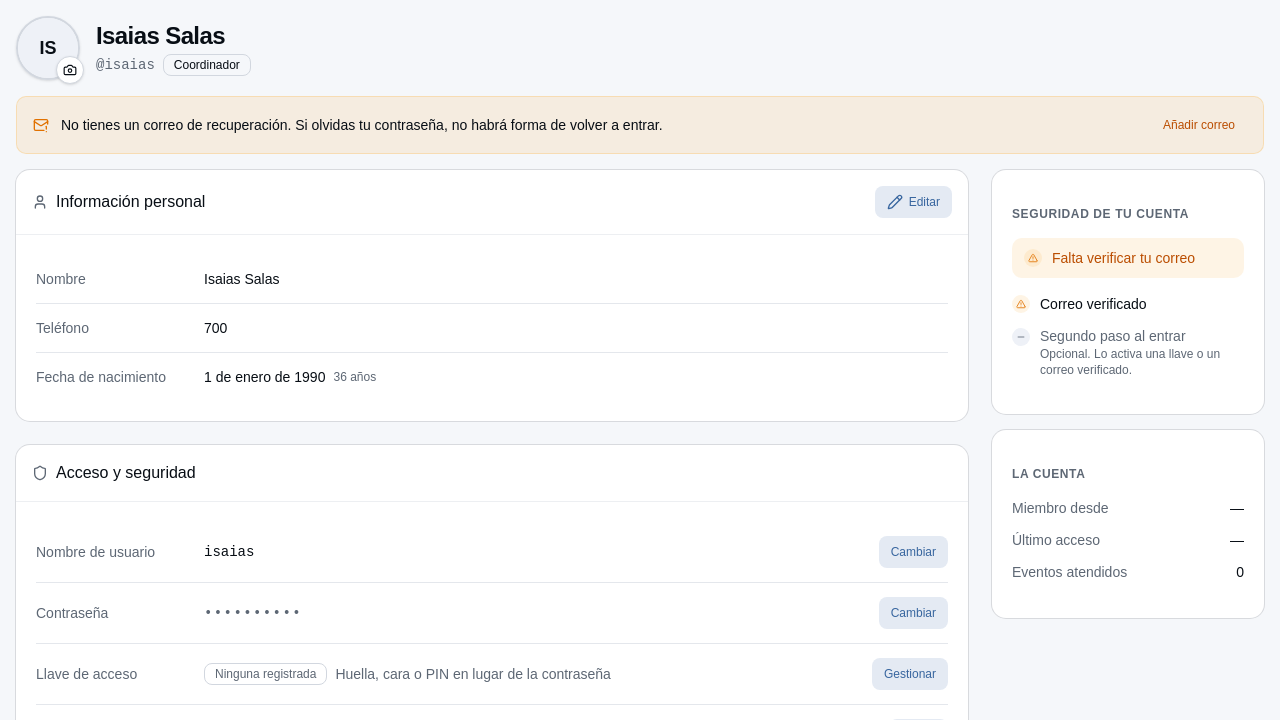
Scenario: changing your own password from the profile page › sends nothing when the current password box was left empty, and says so under it
Click the button with aria-label "cambiar contraseña" at (913, 613), box x1=879 y1=597 x2=948 y2=629
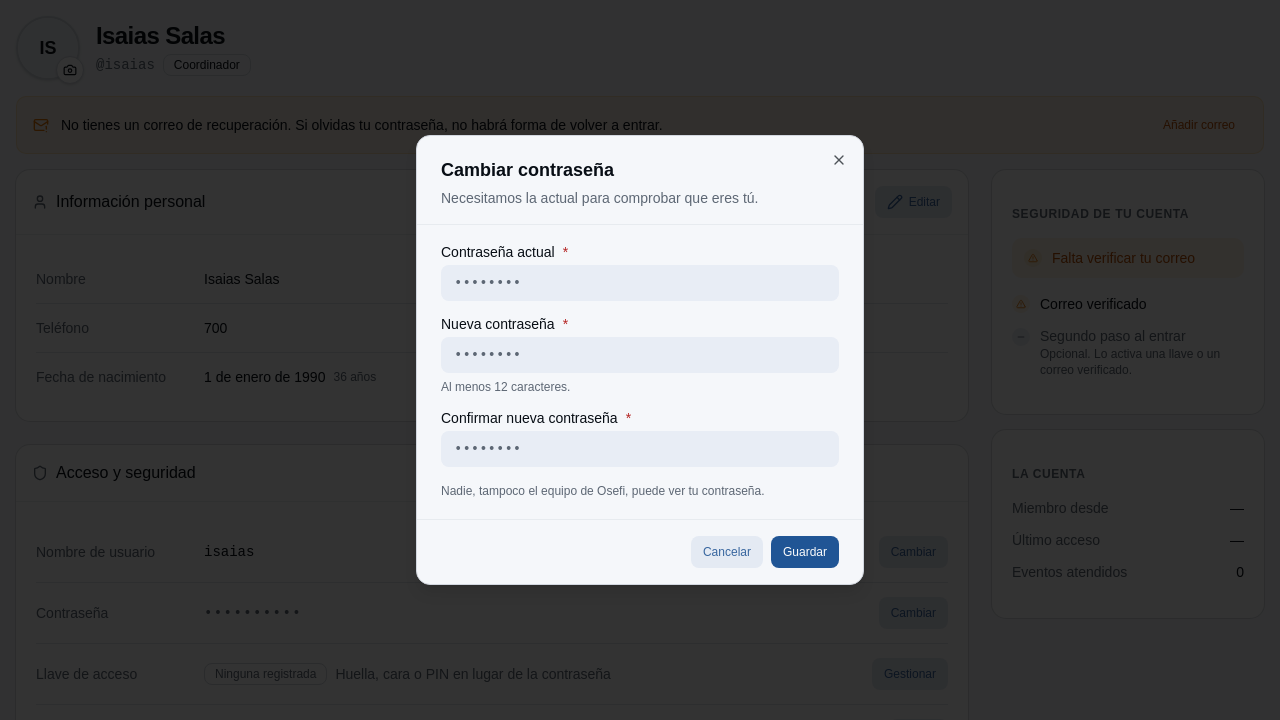
Type "una-clave-de-prueba" into the password field labelled "Nueva contraseña *" at (640, 355), box x1=441 y1=337 x2=839 y2=373
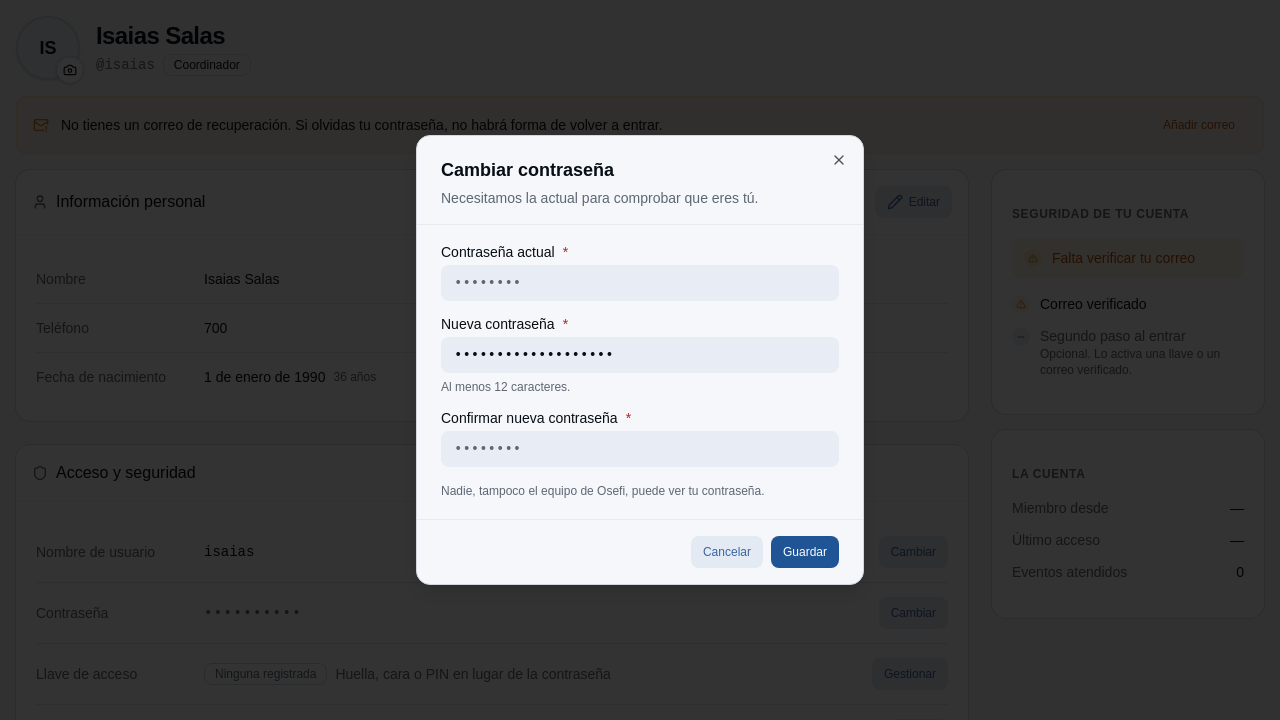
Type "una-clave-de-prueba" into the password field labelled "Confirmar nueva contraseña *" at (640, 449), box x1=441 y1=431 x2=839 y2=467
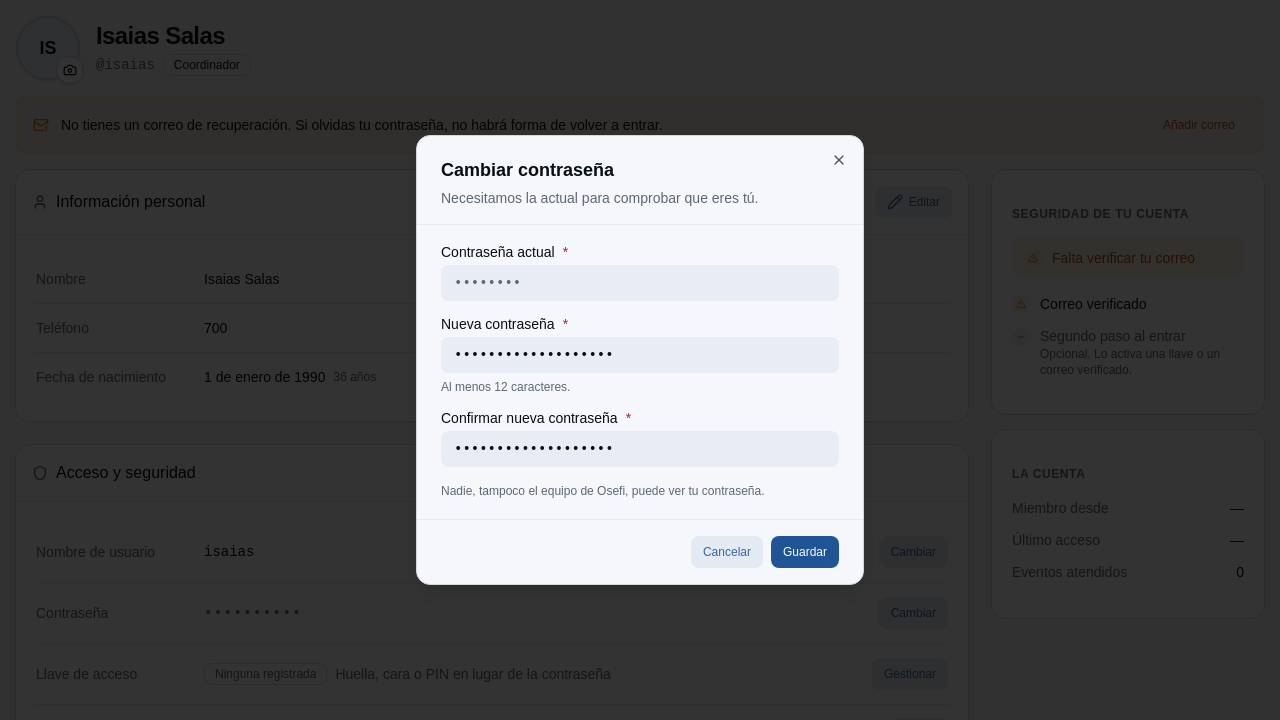
Click the button "Guardar" at (805, 552), box x1=771 y1=536 x2=839 y2=568
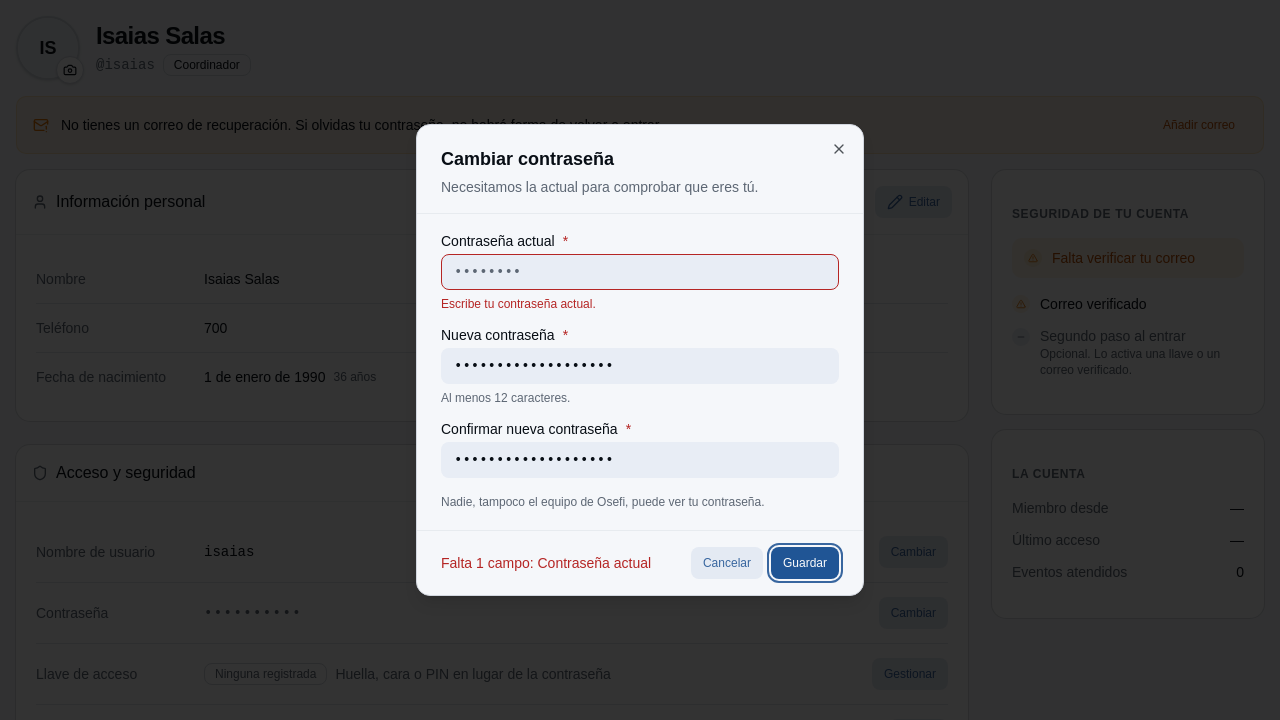
Expected: the message "Escribe tu contraseña actual." is shown, x1=441 y1=297 x2=596 y2=311
